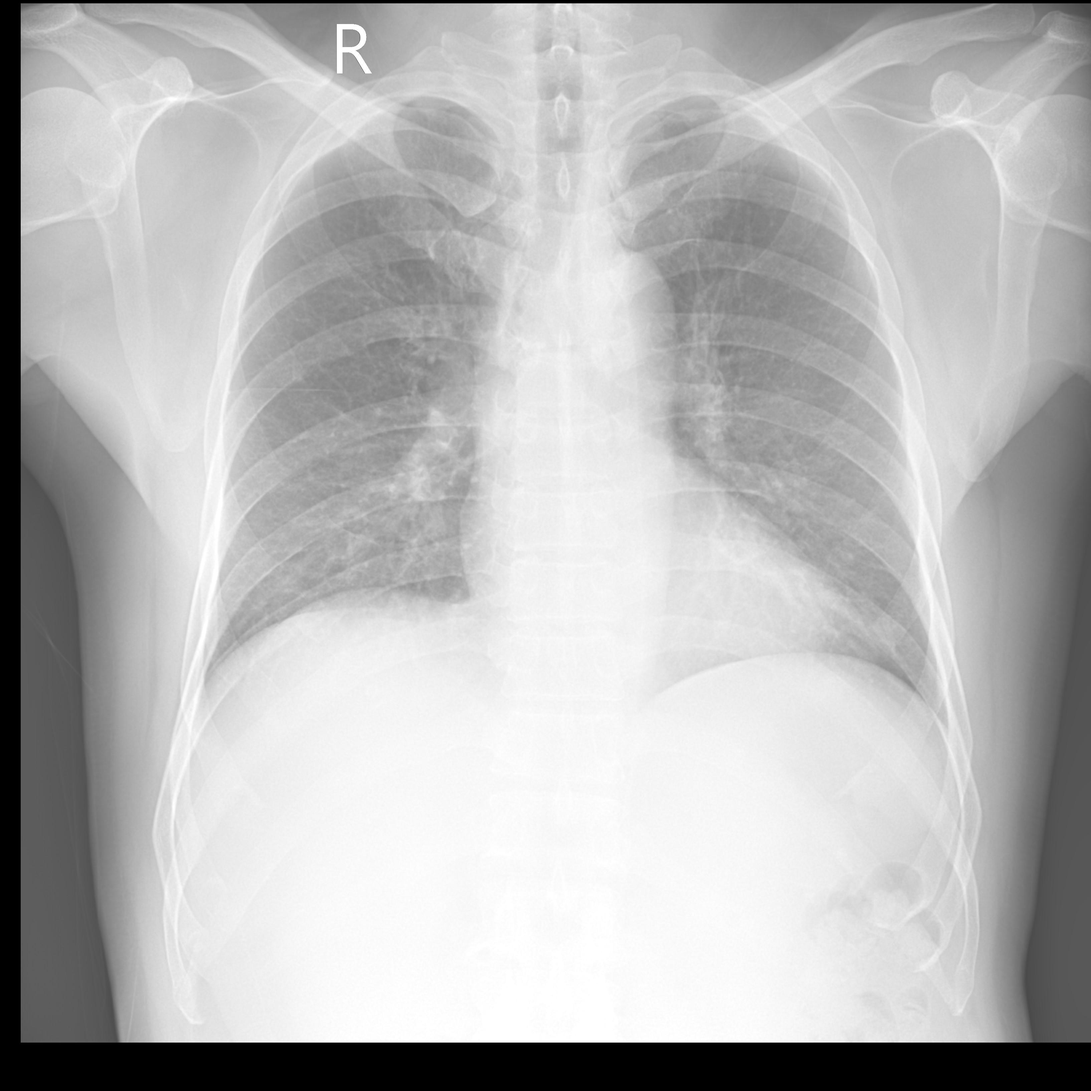Aortic enlargement: (564, 249, 673, 336)
Cardiomegaly: (455, 510, 855, 658)
Pleural thickening: (275, 87, 414, 168), (730, 93, 799, 151)
